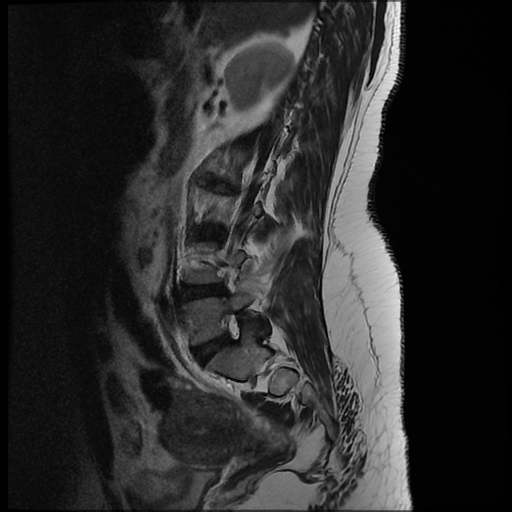RFS0: (211, 304, 260, 356)
